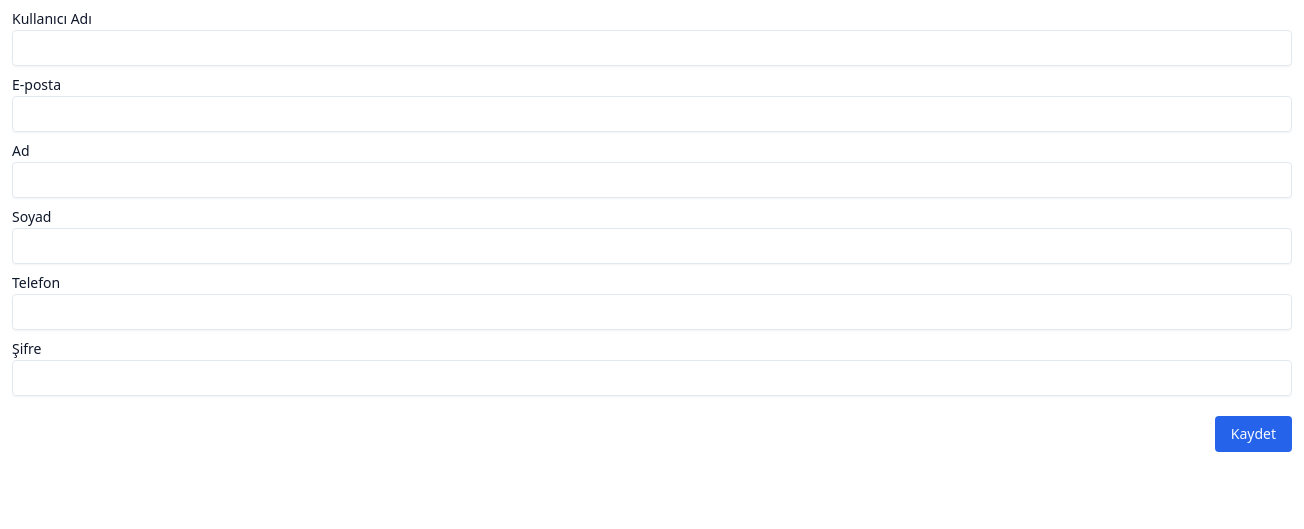
Test: UserForm › shows required validation errors when submitted empty (CREATE mode)
Click the button "Kaydet": (1253, 434) [1215,416,1292,452]
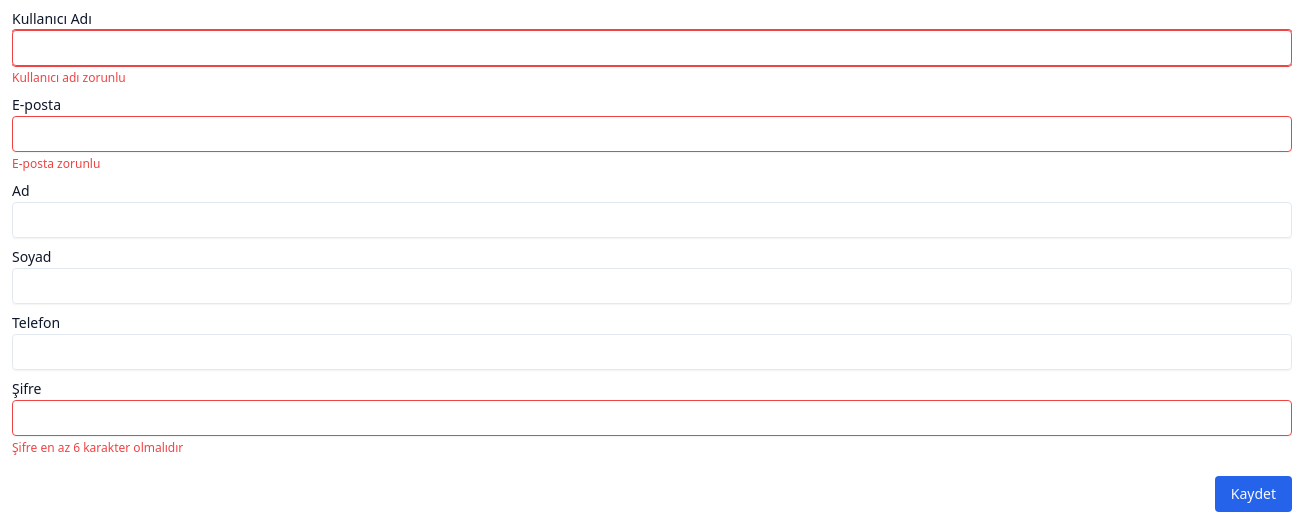
Check: the message "Kullanıcı adı zorunlu" is shown, box [12,69,126,86]
